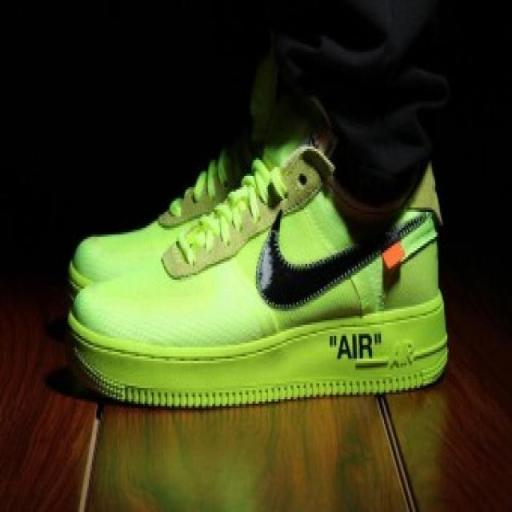Nike: (253, 201, 432, 309)
